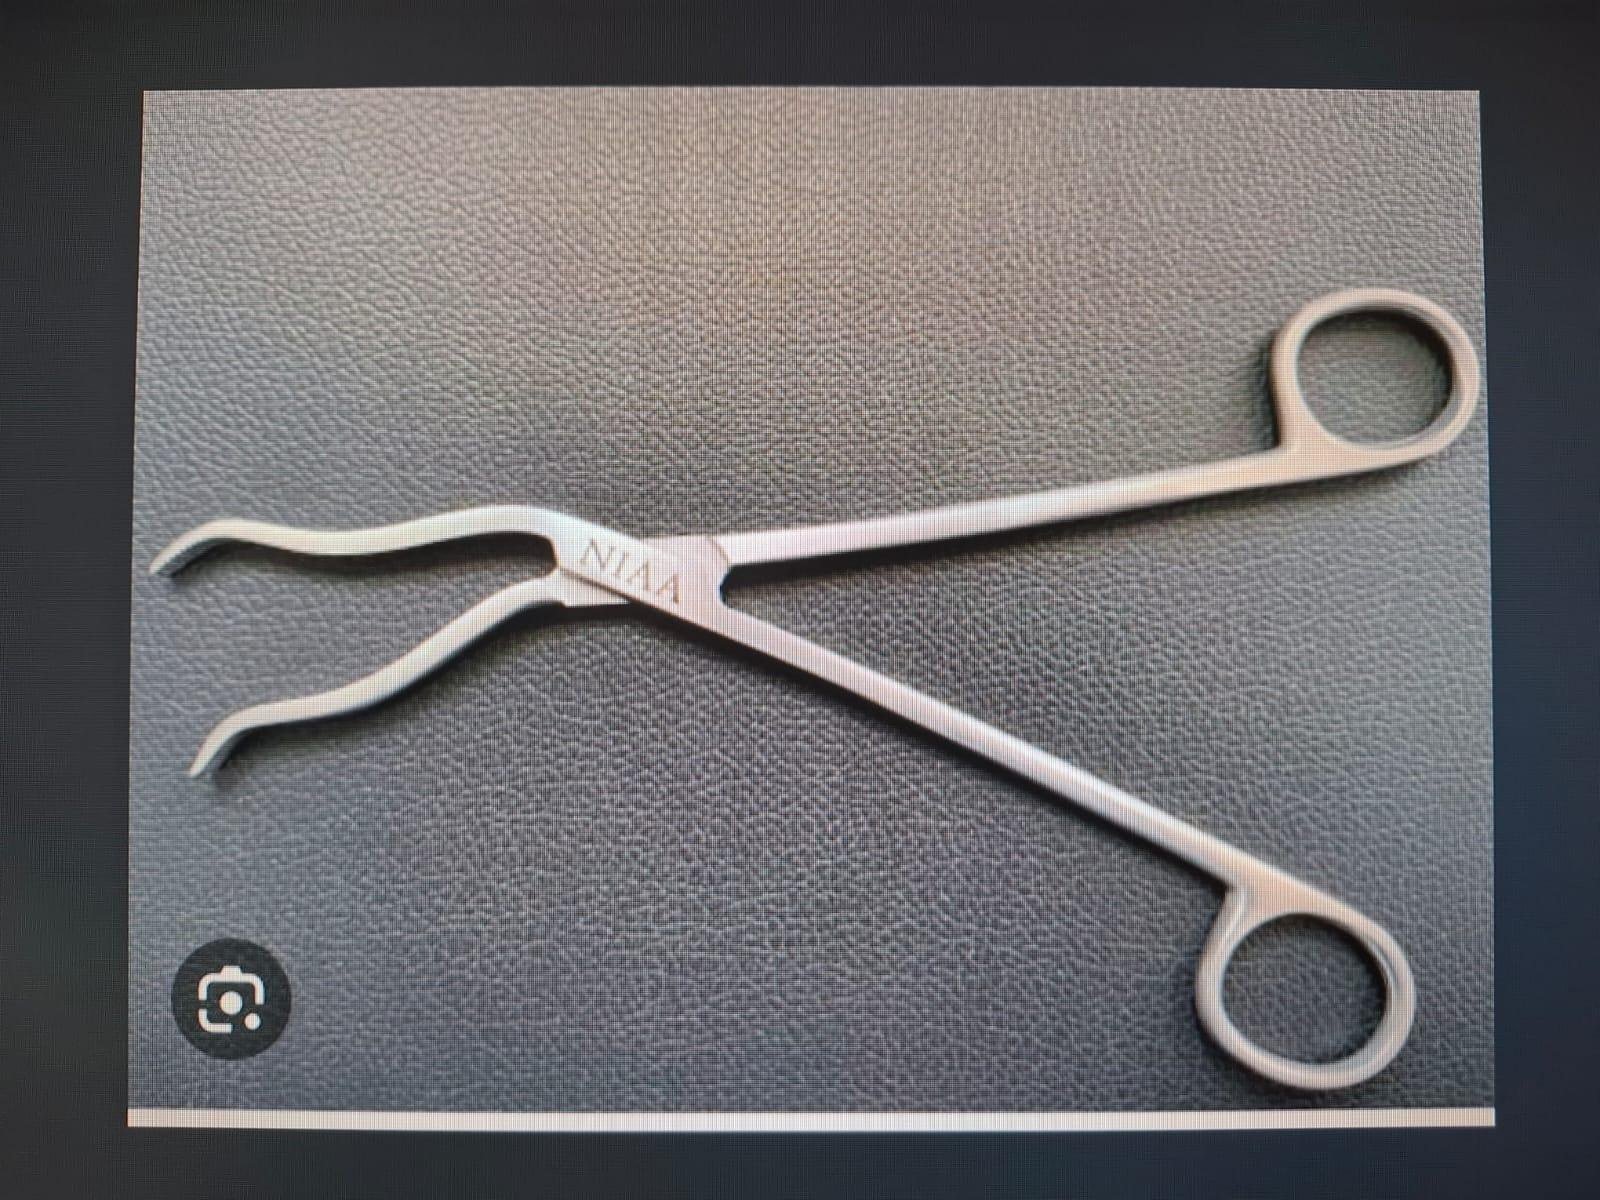Cheatle Forceps: (150, 268, 1484, 1105)
